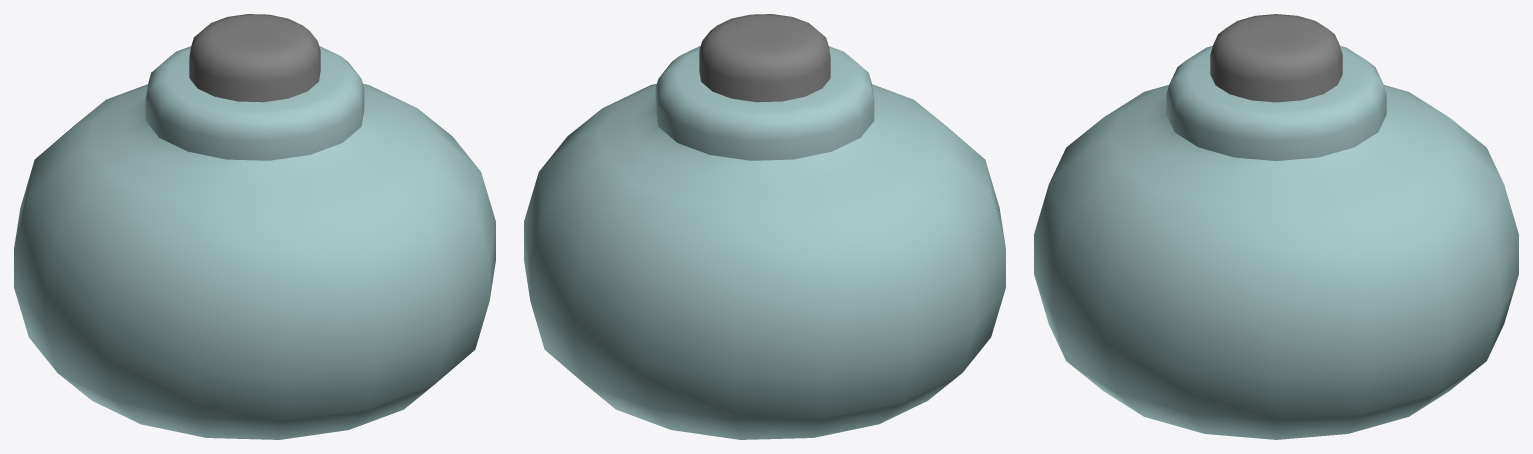
The model's file is LastLuna_Model_Station_Alcohol_Lamp.fbx.
3 renders of one model, left to right at view 1: azimuth 30°, elevation 25°; view 2: azimuth 150°, elevation 25°; view 3: azimuth 270°, elevation 25°, orthographic.
Visible parts, largest first — view 1: Alcohol_Lamp001, Alcohol_Lamp_wick001; view 2: Alcohol_Lamp001, Alcohol_Lamp_wick001; view 3: Alcohol_Lamp001, Alcohol_Lamp_wick001.
Part boxes in pixels (bbox=[...]): Alcohol_Lamp001: bbox=[14, 46, 495, 439]; Alcohol_Lamp_wick001: bbox=[189, 14, 320, 102]; Alcohol_Lamp001: bbox=[524, 46, 1005, 439]; Alcohol_Lamp_wick001: bbox=[699, 14, 830, 102]; Alcohol_Lamp001: bbox=[1034, 46, 1518, 439]; Alcohol_Lamp_wick001: bbox=[1210, 14, 1342, 102].
Size of the model in its own units: 55 by 42.5 by 55.
